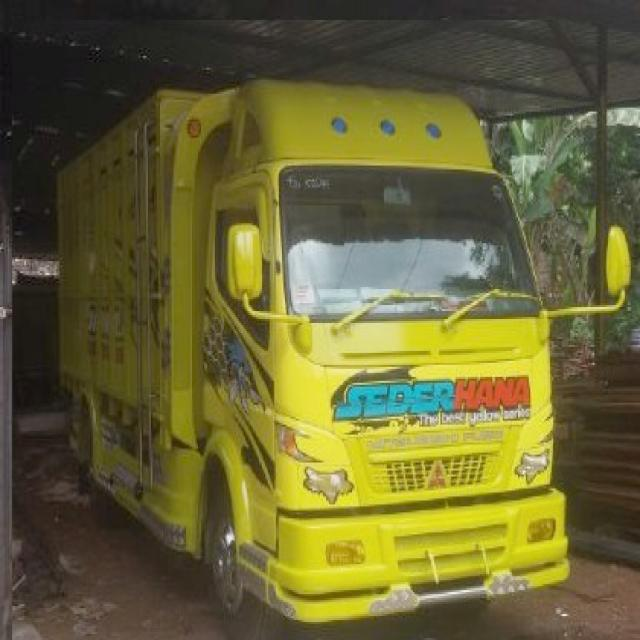truck: (63, 85, 626, 625)
